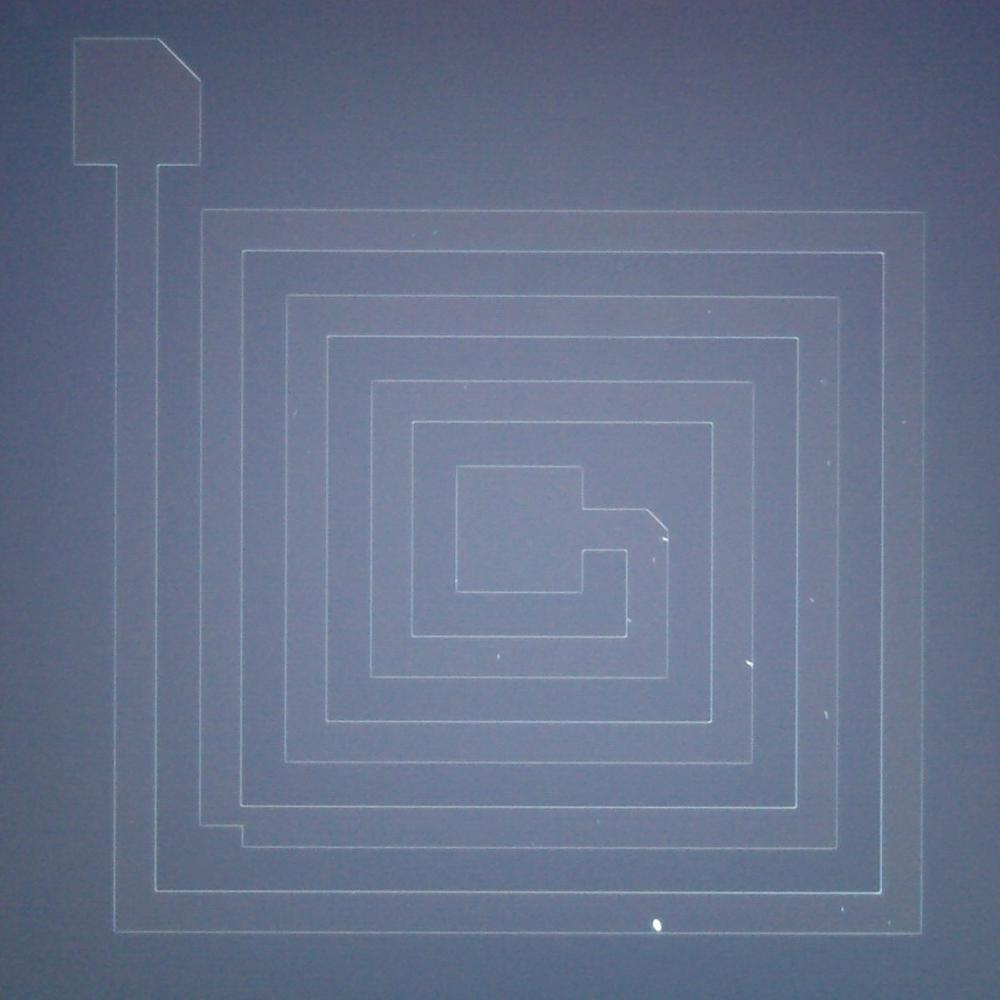dot: (652, 919, 664, 931), (495, 654, 502, 660), (745, 660, 751, 666), (823, 711, 829, 717), (840, 907, 845, 912)
